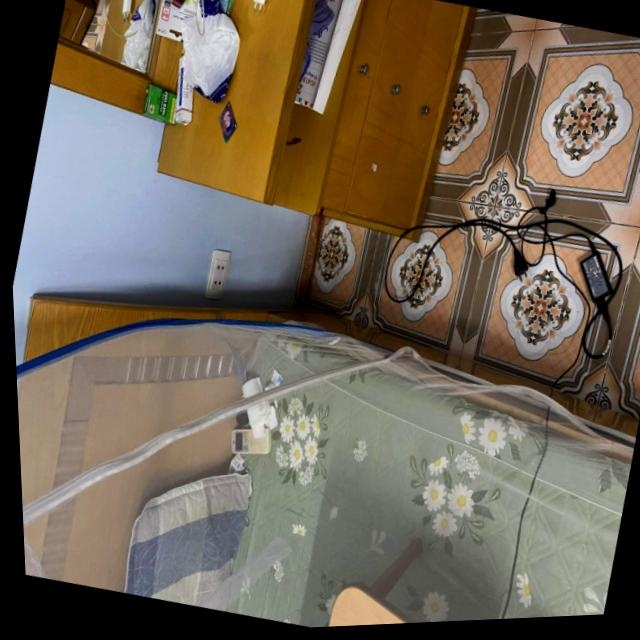outlet: (201, 246, 234, 301)
